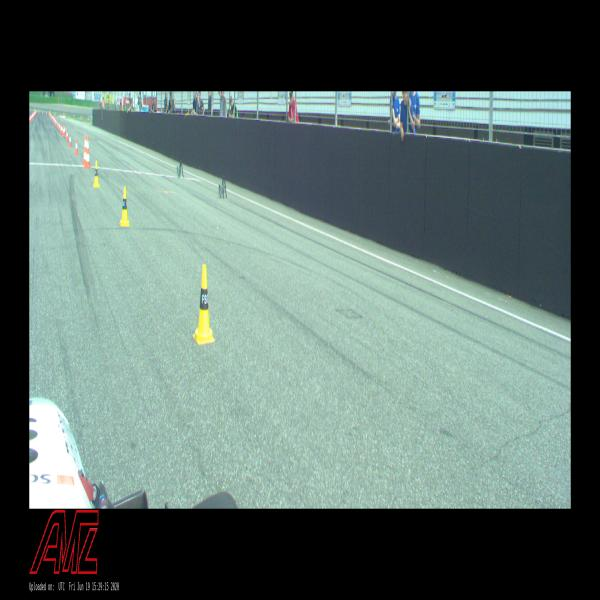large_orange_cone: (84, 136, 91, 168), (82, 134, 86, 165)
orange_cone: (74, 139, 78, 154), (68, 133, 72, 147), (62, 126, 65, 136), (66, 129, 68, 140), (64, 125, 66, 135)
yellow_cone: (193, 265, 215, 344), (119, 186, 130, 226), (93, 161, 100, 187)
